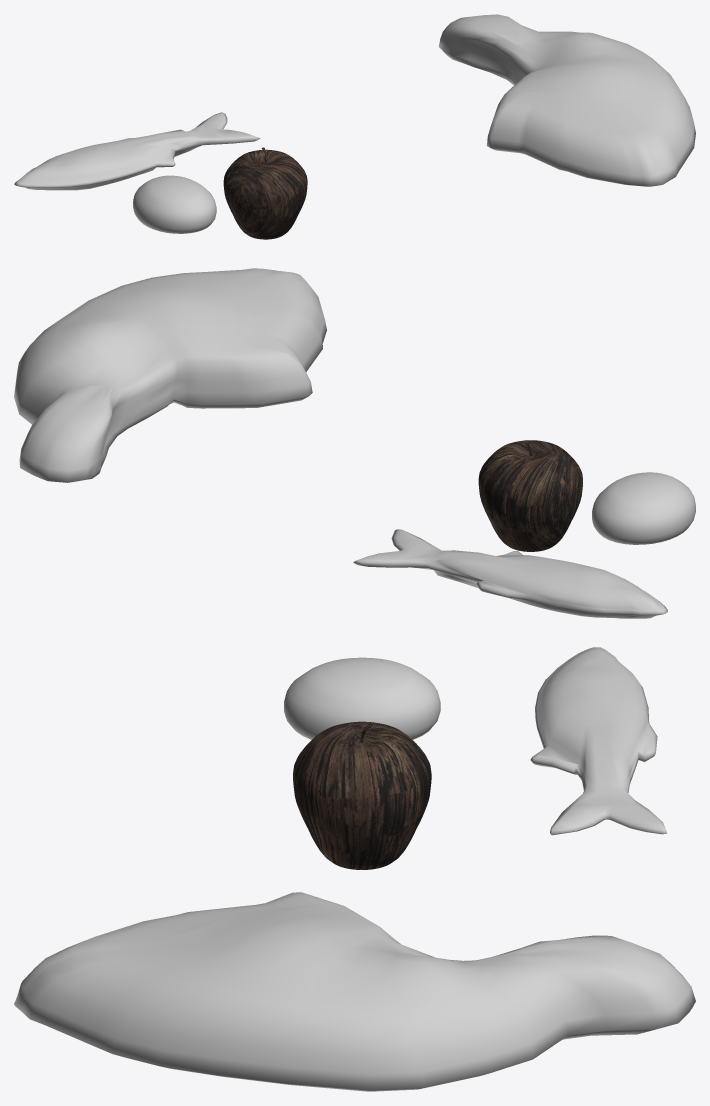
The model's file is Food.fbx.
The picture shows the model from 3 angles, top to bottom: view 1: azimuth 30°, elevation 25°; view 2: azimuth 150°, elevation 25°; view 3: azimuth 270°, elevation 25°; orthographic projection. The views are drawn at different scales.
Parts seen in each view (by area): view 1: Ham, Fish, Apple, Bread; view 2: Ham, Fish, Apple, Bread; view 3: Ham, Fish, Apple, Bread.
Part boxes in pixels (box(x1,y1,x2,y2)): Ham: box(438, 14, 695, 186); Fish: box(14, 112, 260, 190); Apple: box(223, 147, 307, 239); Bread: box(133, 175, 216, 233); Ham: box(14, 268, 326, 482); Fish: box(353, 529, 667, 618); Apple: box(478, 440, 582, 551); Bread: box(592, 472, 695, 544); Ham: box(14, 892, 695, 1091); Fish: box(530, 647, 666, 835); Apple: box(293, 721, 431, 869); Bread: box(284, 657, 440, 739).
Bounding box in the file's own units: 1473 × 256 × 912.
